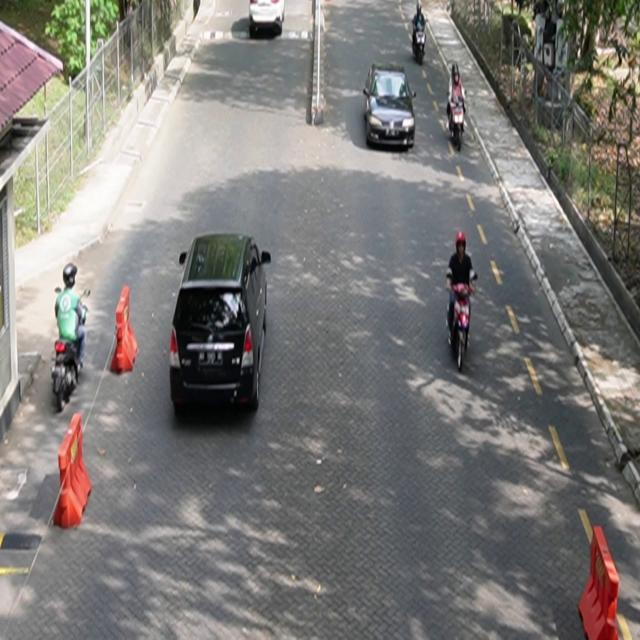car: (170, 233, 272, 414), (364, 63, 418, 152), (249, 1, 286, 37)
